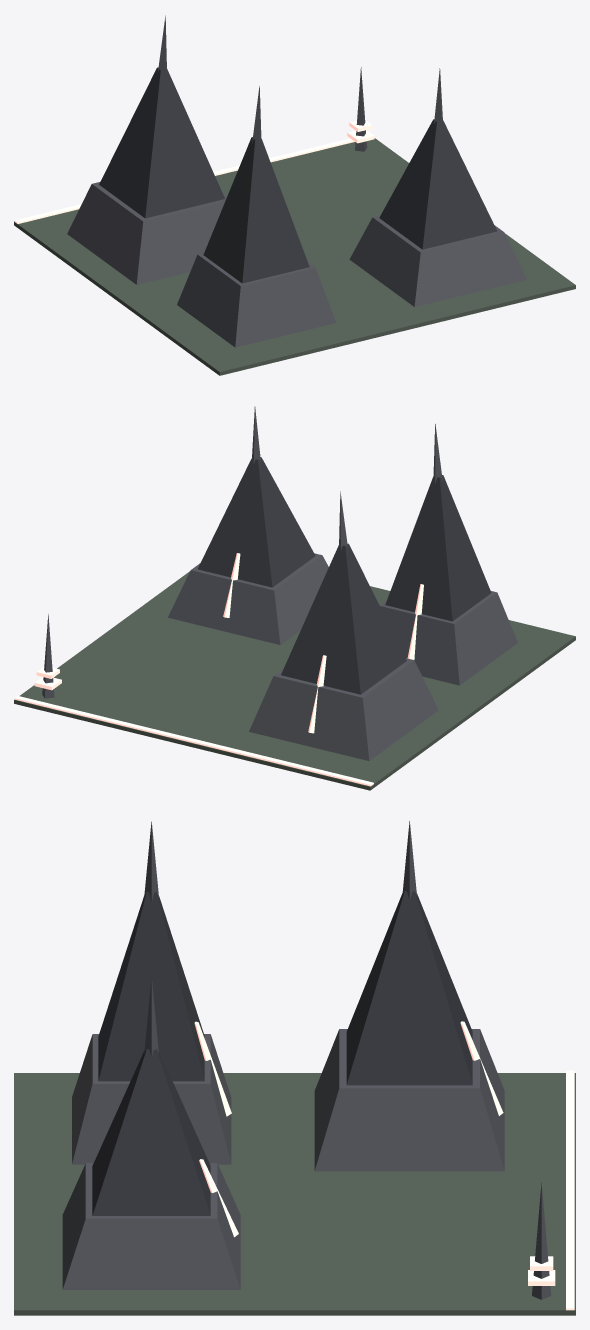
File: zone_low_4_t2.glb
3 views of the same model, one above another, from view 1: azimuth 30°, elevation 25°; view 2: azimuth 150°, elevation 25°; view 3: azimuth 270°, elevation 25° (orthographic). The views are drawn at different scales.
Parts seen in each view (by area): view 1: zone_low_4_t2, detail; view 2: zone_low_4_t2, detail; view 3: zone_low_4_t2, detail.
Part boxes in pixels (left/top/right/bottom): zone_low_4_t2: left=14, top=15, right=575, bottom=375; detail: left=14, top=67, right=374, bottom=223; zone_low_4_t2: left=14, top=406, right=575, bottom=790; detail: left=14, top=614, right=373, bottom=786; zone_low_4_t2: left=14, top=821, right=575, bottom=1315; detail: left=528, top=1070, right=574, bottom=1310.
Size of the model in its own units: 19.6 by 12.28 by 19.6.
